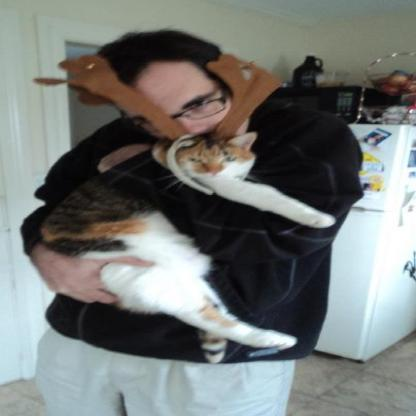Target: (24, 131, 332, 354)
